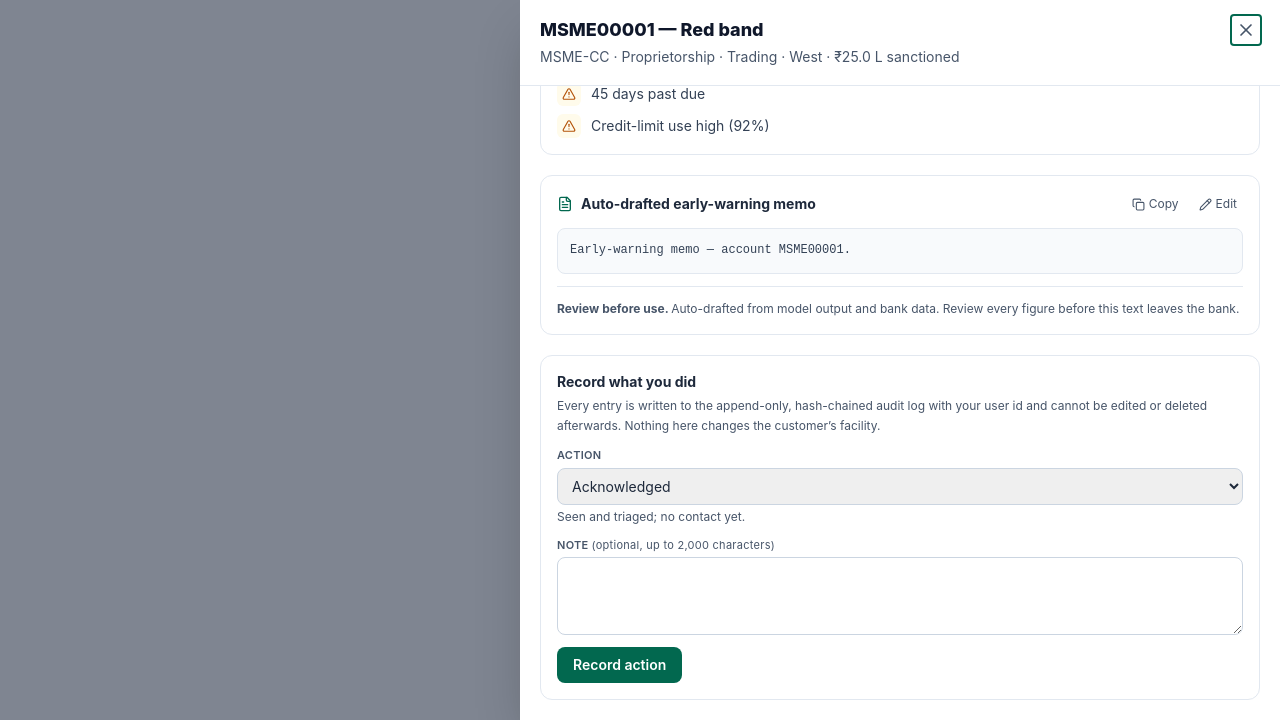
Test: Account detail › records an action and says, out loud, that it is now in the audit log
(page scrolled)
Select "Site visit" in the dropdown labelled "Action": (900, 486) [557,468,1243,505]
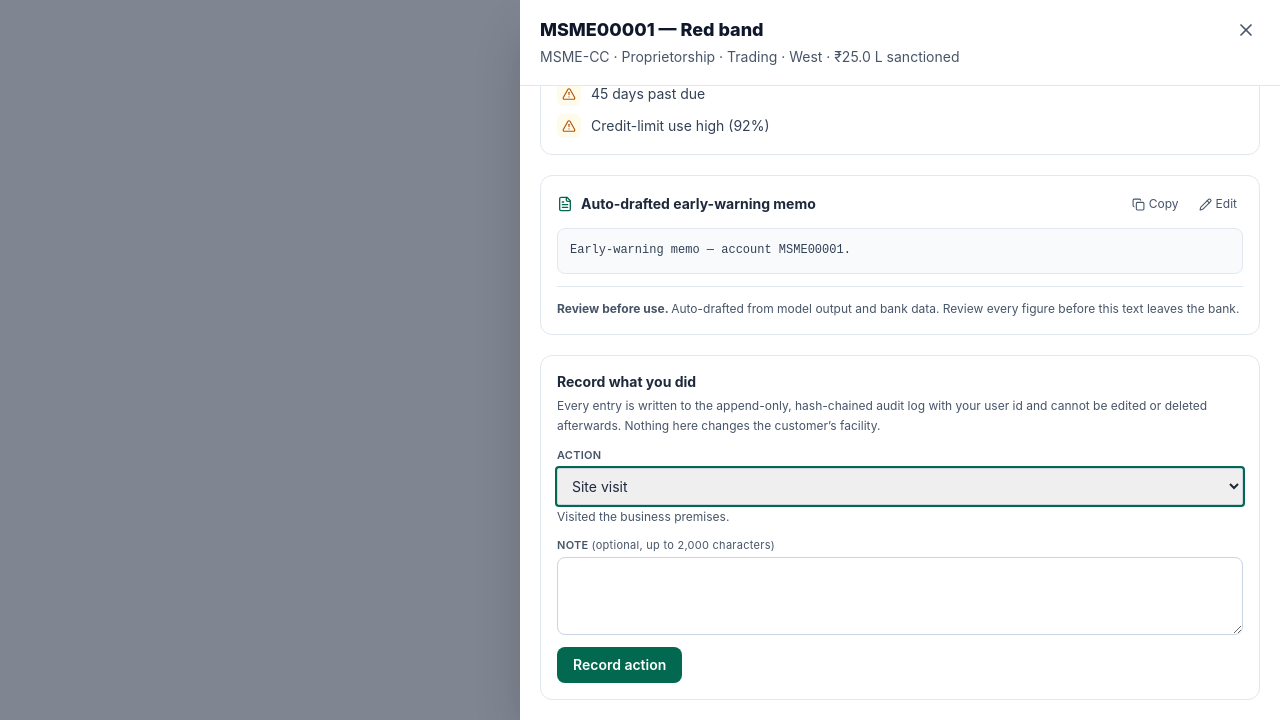
In the text box labelled "Note (optional, up to 2,000 characters)": (900, 596) [557,557,1243,635], type "visited"
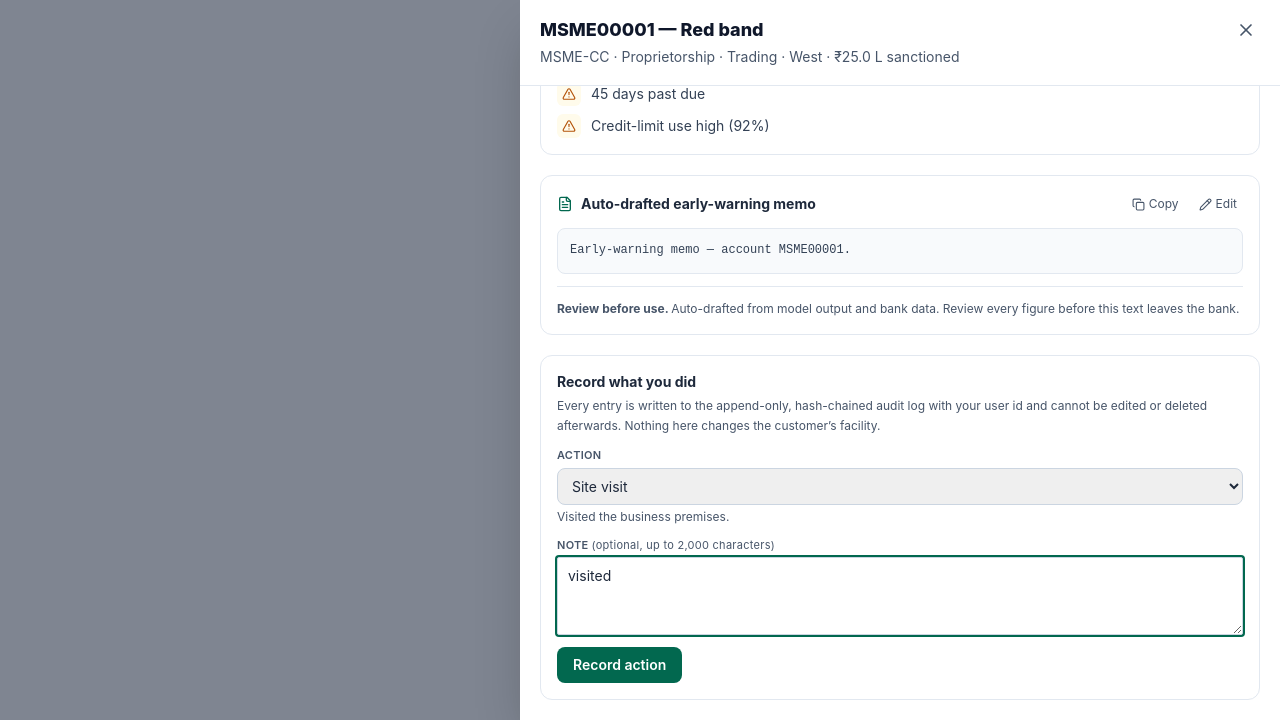
Click the button "Record action": click(620, 665) [557,647,682,683]
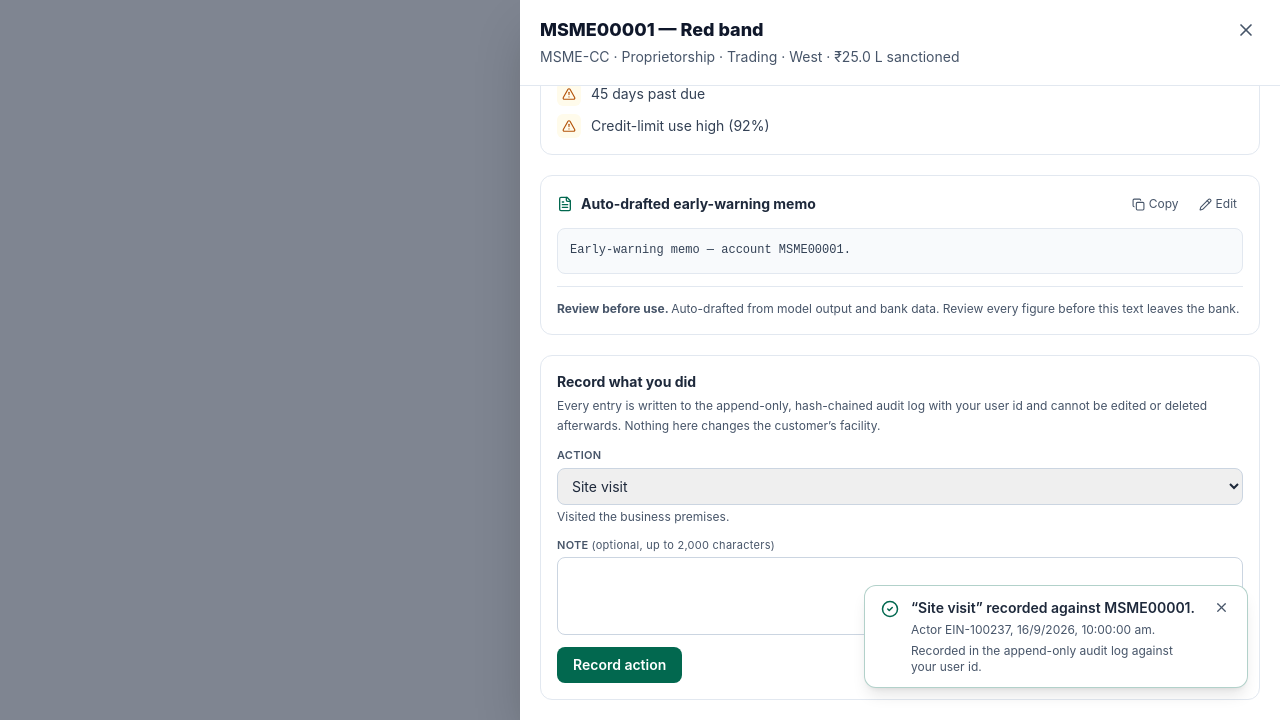
Expected: the text "“Site visit” recorded against MSME00001." is shown, [911,598,1200,618]
Expected: the text "Recorded in the append-only audit log against your user id." is shown, [911,643,1200,675]
